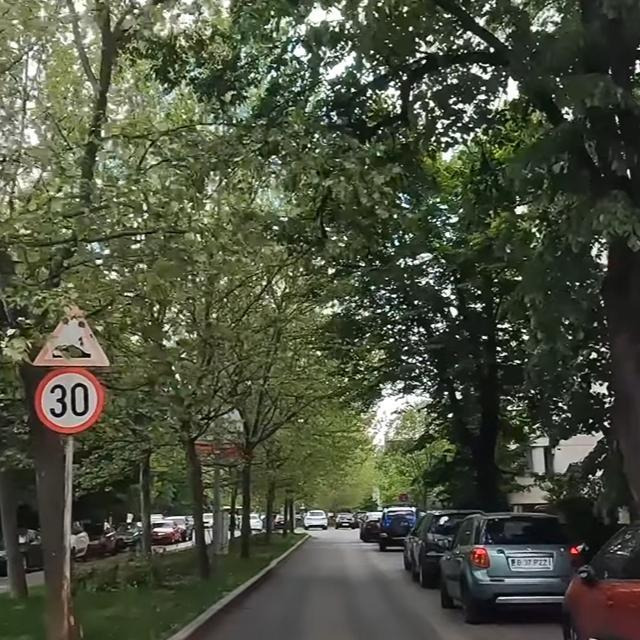forb_speed_over_30: (35, 367, 105, 434)
